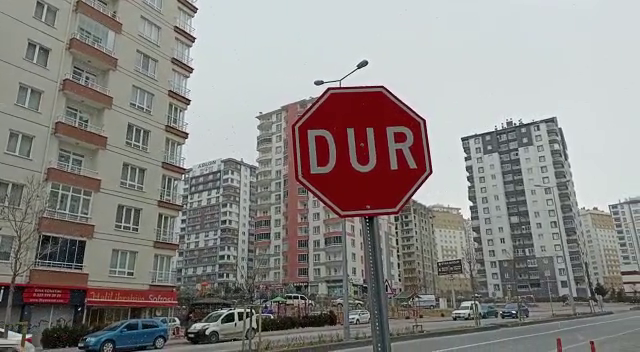stop: (289, 83, 437, 222)
